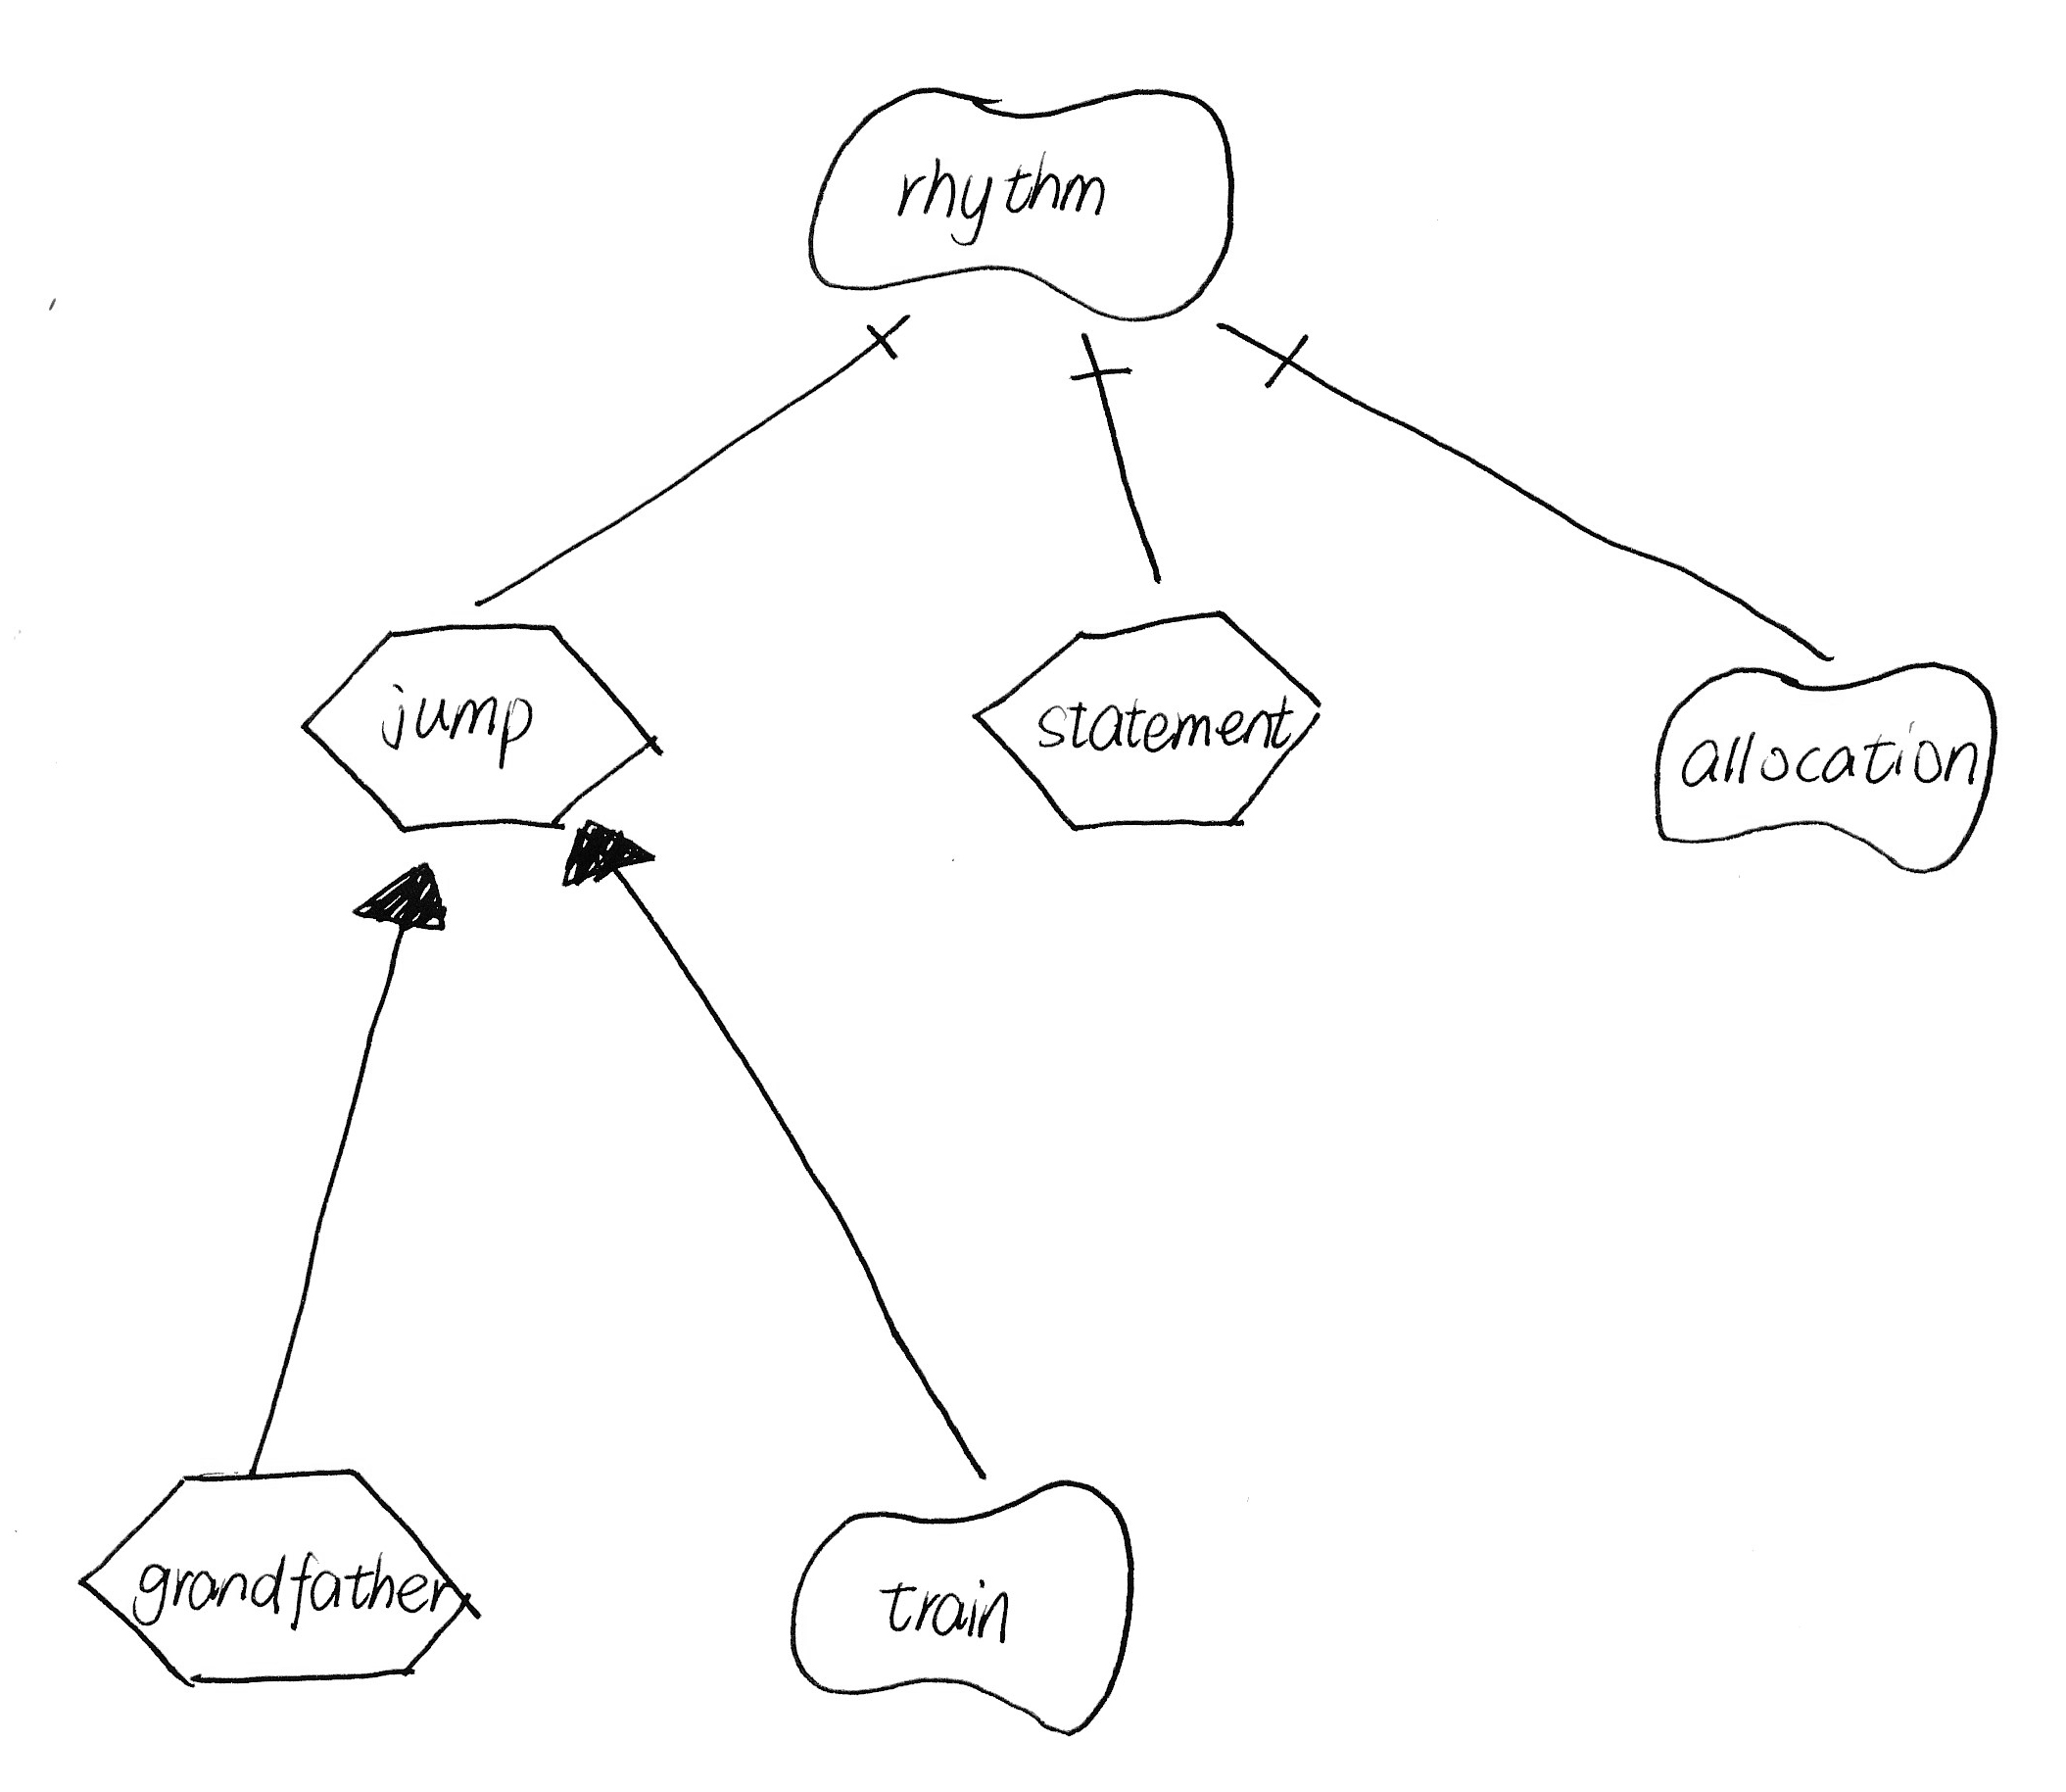and: (1205, 304, 1321, 397), (1056, 320, 1140, 397), (856, 297, 921, 378)
or: (344, 847, 462, 943), (548, 808, 668, 901)
quality: (789, 67, 1247, 337), (771, 1467, 1149, 1748), (1627, 645, 2015, 889)
task: (65, 1449, 499, 1704), (278, 601, 682, 852), (954, 596, 1340, 856)
